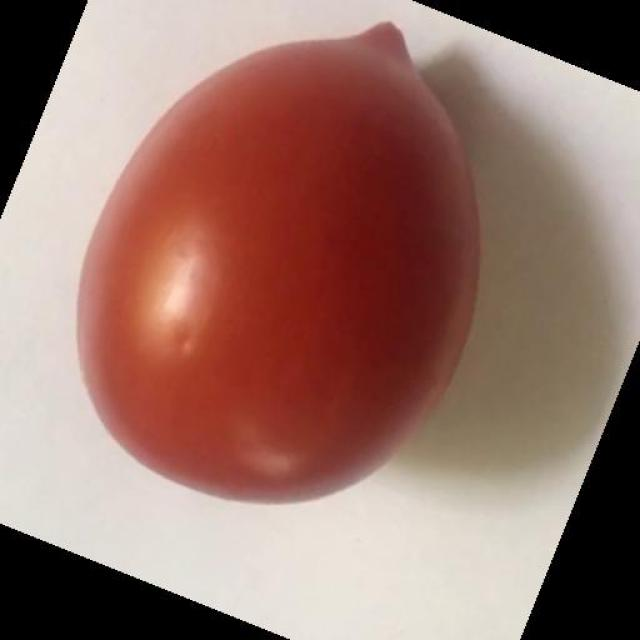ripe tomato: (60, 0, 496, 511)
